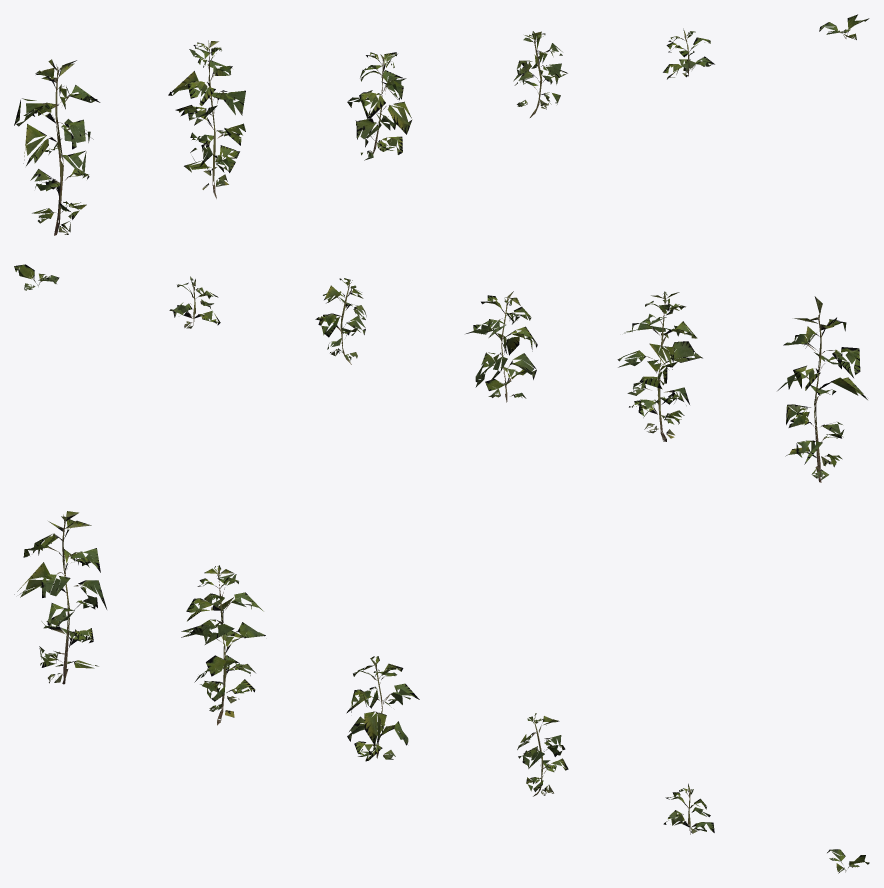
File: nettle_plant_low.glb
3 renders of one model, top to bottom at view 1: azimuth 30°, elevation 25°; view 2: azimuth 150°, elevation 25°; view 3: azimuth 330°, elevation 25°, orthographic.
Visible parts, largest first — view 1: nettle_plant_tall_a_LOD0, nettle_plant_tall_b_LOD0, nettle_plant_medium_a_LOD0, nettle_plant_medium_b_LOD0, nettle_plant_small_a_LOD0; view 2: nettle_plant_tall_a_LOD0, nettle_plant_tall_b_LOD0, nettle_plant_medium_a_LOD0, nettle_plant_medium_b_LOD0, nettle_plant_small_a_LOD0; view 3: nettle_plant_tall_a_LOD0, nettle_plant_tall_b_LOD0, nettle_plant_medium_a_LOD0, nettle_plant_medium_b_LOD0, nettle_plant_small_a_LOD0.
Boxes of the visible parts, bbox=[...] form: nettle_plant_tall_a_LOD0: bbox=[14, 59, 100, 235]; nettle_plant_tall_b_LOD0: bbox=[168, 40, 245, 198]; nettle_plant_medium_a_LOD0: bbox=[347, 52, 412, 160]; nettle_plant_medium_b_LOD0: bbox=[513, 31, 567, 117]; nettle_plant_small_a_LOD0: bbox=[663, 28, 714, 79]; nettle_plant_tall_a_LOD0: bbox=[777, 296, 867, 482]; nettle_plant_tall_b_LOD0: bbox=[617, 291, 702, 441]; nettle_plant_medium_a_LOD0: bbox=[466, 291, 537, 402]; nettle_plant_medium_b_LOD0: bbox=[315, 278, 366, 364]; nettle_plant_small_a_LOD0: bbox=[169, 276, 220, 328]; nettle_plant_tall_a_LOD0: bbox=[14, 511, 106, 684]; nettle_plant_tall_b_LOD0: bbox=[181, 565, 265, 725]; nettle_plant_medium_a_LOD0: bbox=[346, 656, 419, 761]; nettle_plant_medium_b_LOD0: bbox=[517, 713, 568, 796]; nettle_plant_small_a_LOD0: bbox=[663, 783, 714, 834].
Size of the model in its own units: 1.08 by 0.2168 by 0.0964.
1 material, 1 textured.
